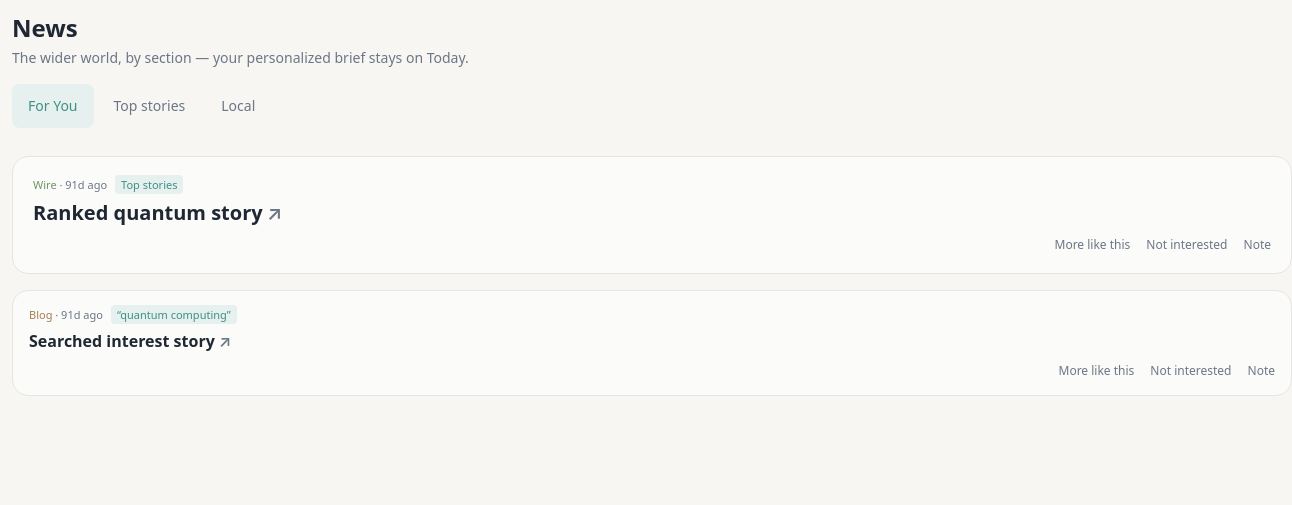
Scenario: News (M7) › credits a For You note to its origin section, like the signals
Expected: the link "Ranked quantum story↗" is shown, 33,199 -> 282,226
Click the button with aria-label "Note on Ranked quantum story" at (1257, 245), box 1244,237 -> 1271,253
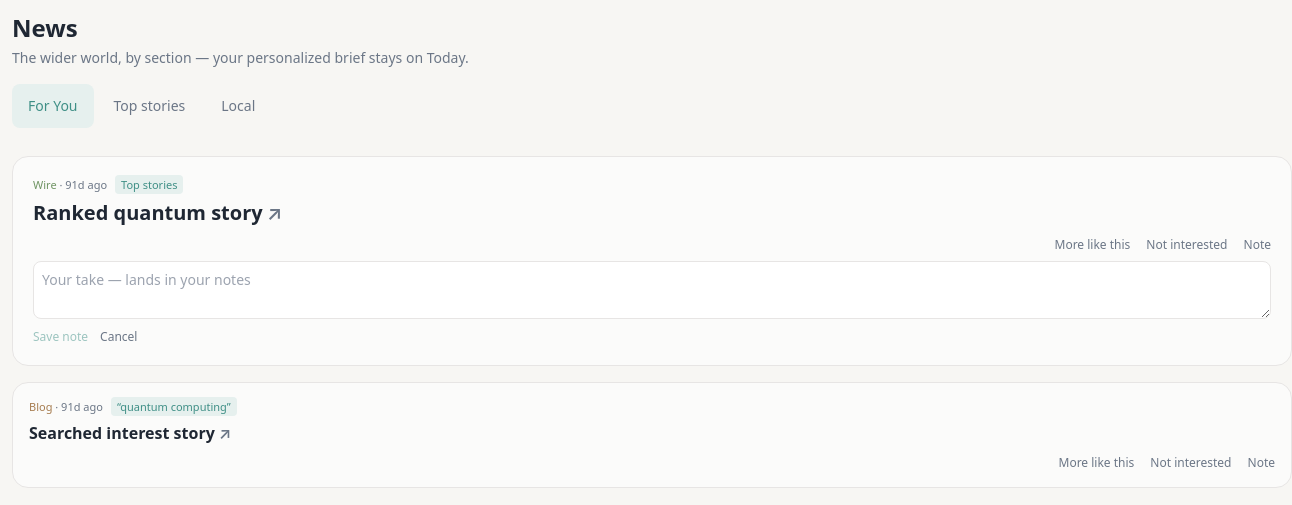
Type "Keep an eye on this" into the text box with placeholder "Your take — lands in your notes" at (652, 290), box 33,261 -> 1271,319
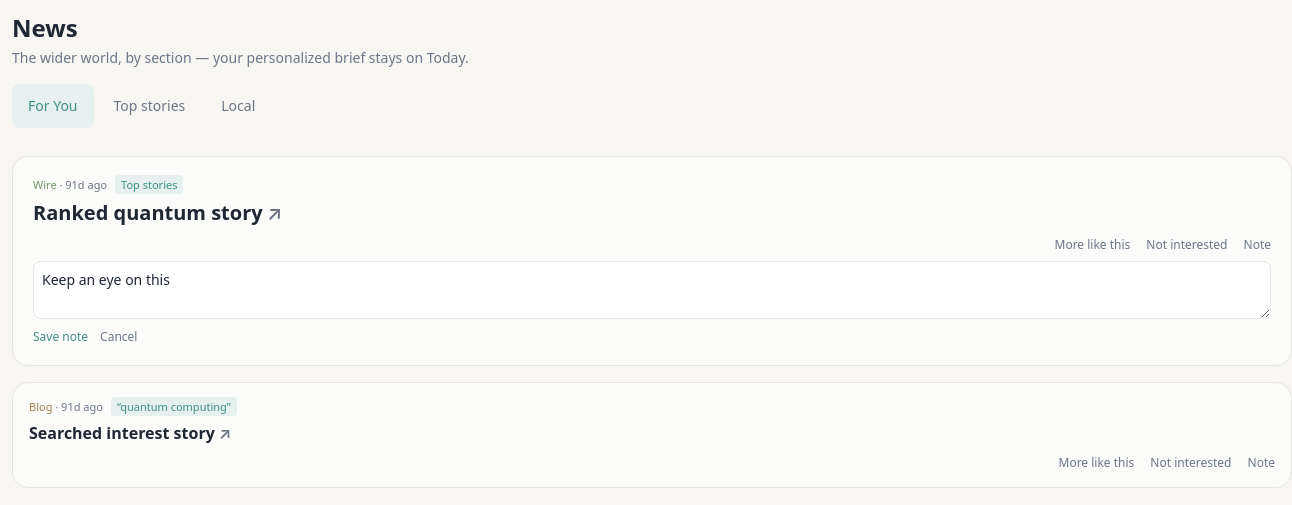
Click the button "Save note" at (61, 337), box 33,329 -> 88,345
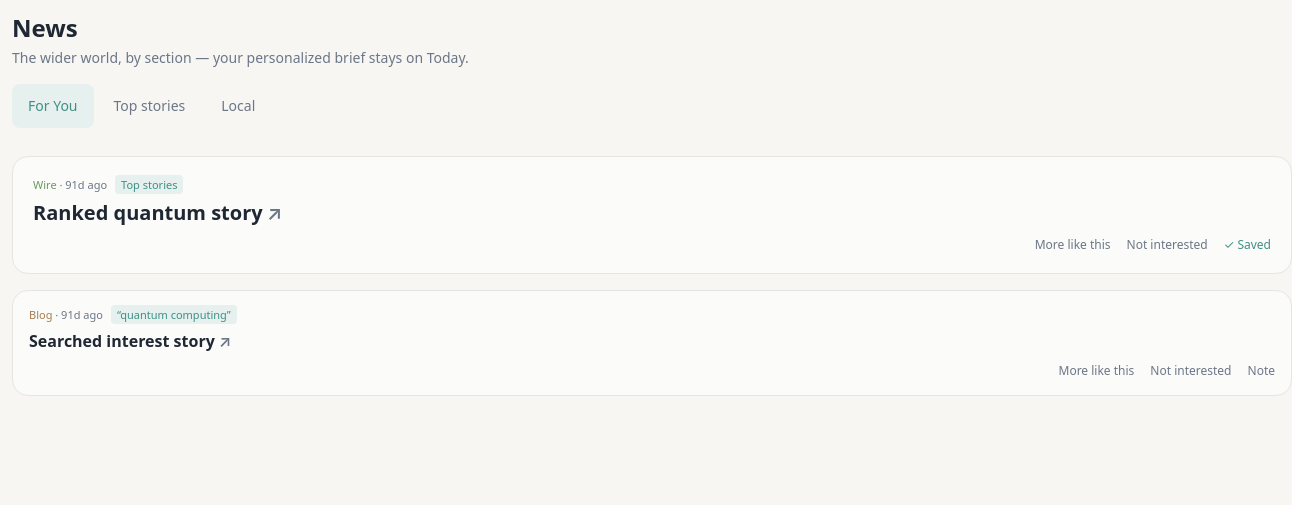
Expected: the button "✓ Saved" is shown, 1224,237 -> 1271,253
